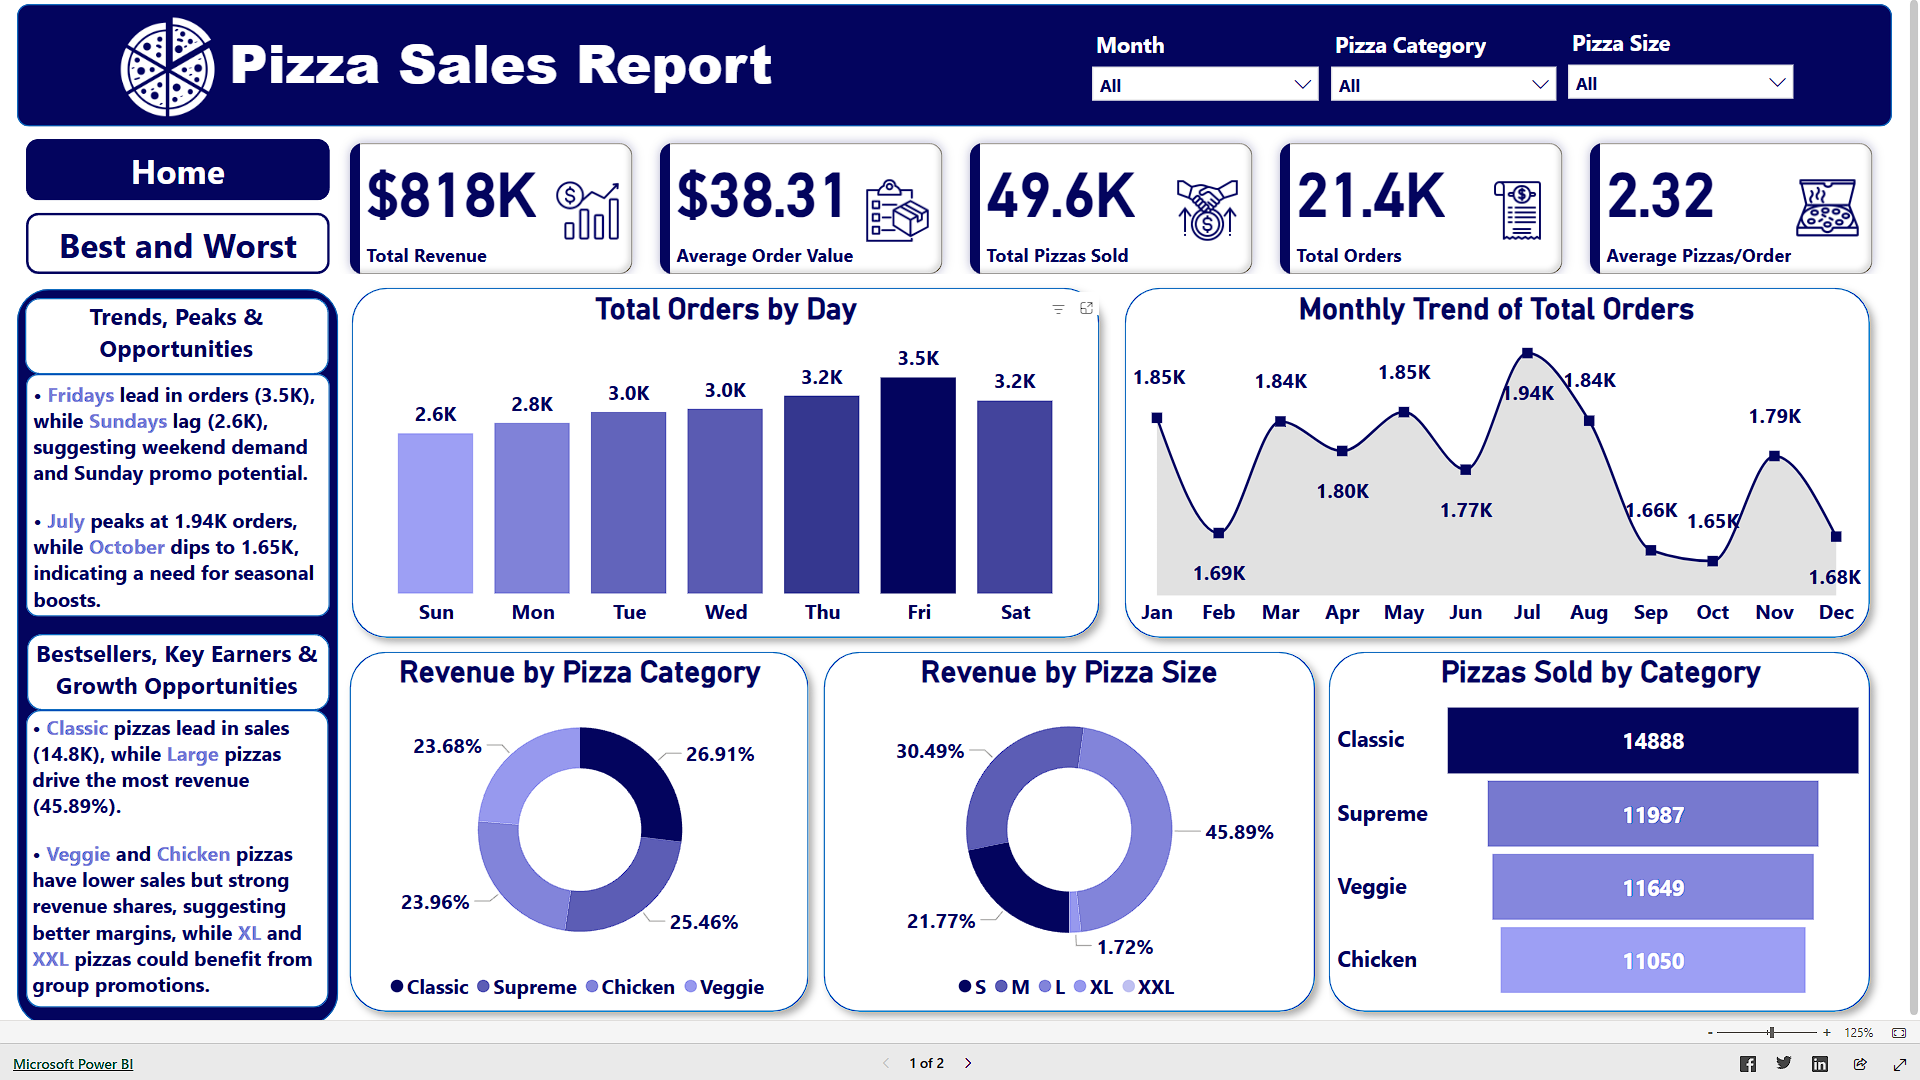

What the dashboard file says about the page in this screenshot:
{"tool":"powerbi","page":{"name":"Home","canvas":[1500,820],"ordinal":0},"visuals":[{"type":"textbox","box":[165,14.3,455,77],"z":0,"group":"g2"},{"type":"shape","box":[1038,510,455,310],"z":0},{"type":"shape","box":[634,510,415,310],"z":1000},{"type":"shape","box":[255,510,389,310],"z":2000},{"type":"cardVisual","fields":{"Data":["_Measure Table.Total Revenue","_Measure Table.Average Order Value","_Measure Table.Total Pizzas Sold","_Measure Table.Total Orders","_Measure Table.Average Pizzas/Order"]},"box":[250,98,1250,137],"z":3000},{"type":"shape","box":[257,219,620,302],"z":4000},{"type":"shape","box":[0,3,1500,98],"z":5000},{"type":"columnChart","title":"Total Orders by Day","fields":{"Category":["Date Table.Day Name"],"Y":["_Measure Table.Total Orders"]},"box":[269,233,597,277],"z":6000},{"type":"shape","box":[875,219,618,302],"z":7000},{"type":"lineChart","title":"Monthly Trend of Total Orders","fields":{"Category":["Date Table.Month Name"],"Y":["_Measure Table.Total Orders"]},"box":[887,232.7,592.9,277.6],"z":8000},{"type":"donutChart","title":"Revenue by Pizza Category","fields":{"Category":["pizza_sales.pizza_category"],"Y":["_Measure Table.Total Revenue"]},"box":[266,523,368,286],"z":9000},{"type":"donutChart","title":"Revenue by Pizza Size","fields":{"Y":["_Measure Table.Total Revenue"],"Category":["pizza_sales.pizza_size"]},"box":[645,523,394,286],"z":10000},{"type":"funnel","title":"Pizzas Sold by Category","fields":{"Y":["_Measure Table.Total Pizzas Sold"],"Category":["pizza_sales.pizza_category"]},"box":[1051,523,432,286],"z":11000},{"type":"group","id":"g1","title":"Group 2","box":[76,8,544,90],"z":12000},{"type":"slicer","fields":{"Values":["pizza_sales.pizza_category"]},"box":[1046,18,190,69],"z":13000},{"type":"group","id":"g2","title":"Group 1","box":[165,14.3,455,77],"z":14000,"group":"g1"},{"type":"slicer","fields":{"Values":["pizza_sales.pizza_size"]},"box":[1236,17,190,69],"z":14000},{"type":"image","box":[76,8,89.1,90],"z":15000,"group":"g1"},{"type":"slicer","fields":{"Values":["Date Table.Month Name"]},"box":[855,18,191,69],"z":15000},{"type":"shape","box":[0,231,257,589],"z":16000},{"type":"shape","box":[7,238,243,61],"z":17000},{"type":"shape","box":[7,301,243,194],"z":18000},{"type":"shape","box":[7,507,243,61],"z":19000},{"type":"shape","box":[7.3,570,243,238],"z":20000},{"type":"textbox","box":[7,235,243,62],"z":21000},{"type":"textbox","box":[7,301,243.1,216.9],"z":22000},{"type":"textbox","box":[7,505,243,62],"z":23000},{"type":"textbox","box":[7.2,570,242.8,244.4],"z":24000},{"type":"pageNavigator","box":[7,111,243,108],"z":25000}]}

Visuals, with their boxes on the page's 1500x820 design canvas (x1, y1, x2, y2). These are canvas units, not pixel positions in the 1920x1080 screenshot, which may show the page scaled, cropped or inside an application window:
textbox: locate(165, 14, 620, 91)
shape: locate(1038, 510, 1493, 820)
shape: locate(634, 510, 1049, 820)
shape: locate(255, 510, 644, 820)
cardVisual - _Measure Table.Total Revenue x _Measure Table.Average Order Value: locate(250, 98, 1500, 235)
shape: locate(257, 219, 877, 521)
shape: locate(0, 3, 1500, 101)
"Total Orders by Day" columnChart: locate(269, 233, 866, 510)
shape: locate(875, 219, 1493, 521)
"Monthly Trend of Total Orders" lineChart: locate(887, 233, 1480, 510)
"Revenue by Pizza Category" donutChart: locate(266, 523, 634, 809)
"Revenue by Pizza Size" donutChart: locate(645, 523, 1039, 809)
"Pizzas Sold by Category" funnel: locate(1051, 523, 1483, 809)
"Group 2" group: locate(76, 8, 620, 98)
slicer - pizza_sales.pizza_category: locate(1046, 18, 1236, 87)
"Group 1" group: locate(165, 14, 620, 91)
slicer - pizza_sales.pizza_size: locate(1236, 17, 1426, 86)
image: locate(76, 8, 165, 98)
slicer - Date Table.Month Name: locate(855, 18, 1046, 87)
shape: locate(0, 231, 257, 820)
shape: locate(7, 238, 250, 299)
shape: locate(7, 301, 250, 495)
shape: locate(7, 507, 250, 568)
shape: locate(7, 570, 250, 808)
textbox: locate(7, 235, 250, 297)
textbox: locate(7, 301, 250, 518)
textbox: locate(7, 505, 250, 567)
textbox: locate(7, 570, 250, 814)
pageNavigator: locate(7, 111, 250, 219)
